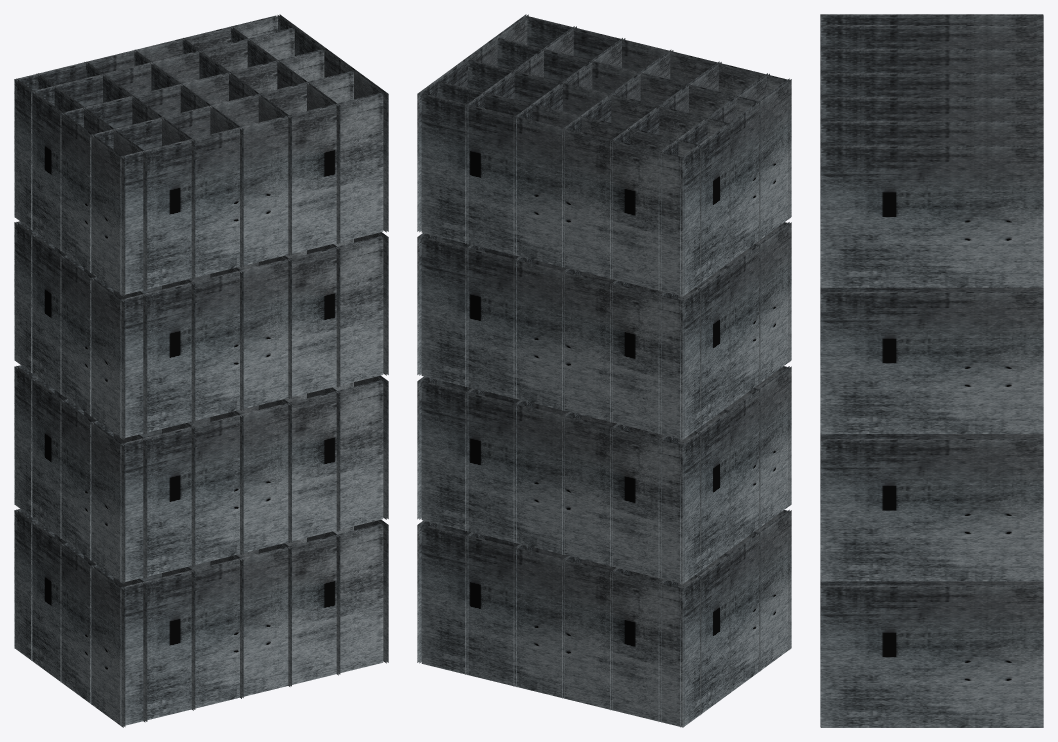
The model's file is store_58.obj.
3 views of the same model, side by side, from view 1: azimuth 30°, elevation 25°; view 2: azimuth 150°, elevation 25°; view 3: azimuth 270°, elevation 25° (orthographic). The views are drawn at different scales.
Size of the model in its own units: 26.5 by 54.21 by 18.87.
